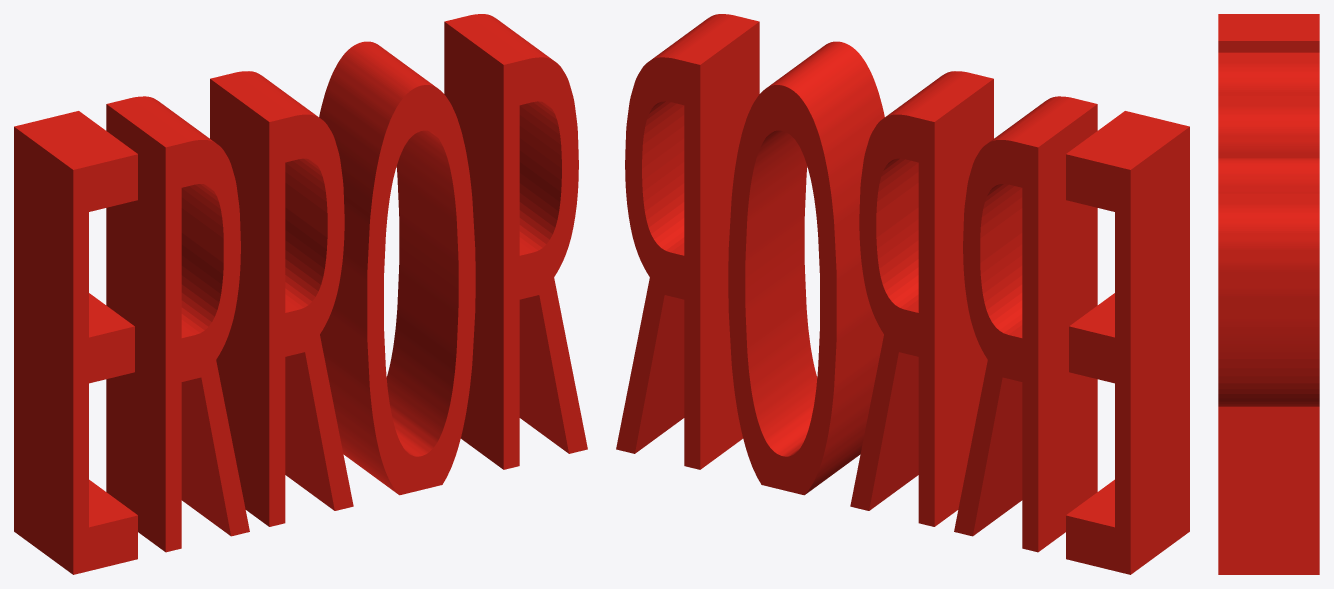
File: error.fbx
3 views of the same model, side by side, from view 1: azimuth 30°, elevation 25°; view 2: azimuth 150°, elevation 25°; view 3: azimuth 270°, elevation 25° (orthographic). The views are drawn at different scales.
Parts seen in each view (by area): view 1: Error; view 2: Error; view 3: Error.
Boxes of the visible parts, x1,y1,x2,y2 form: Error: (14, 14, 587, 574); Error: (616, 14, 1189, 574); Error: (1218, 14, 1319, 574).
Bounding box in the file's own units: 1.47 × 0.2936 × 1.11.
